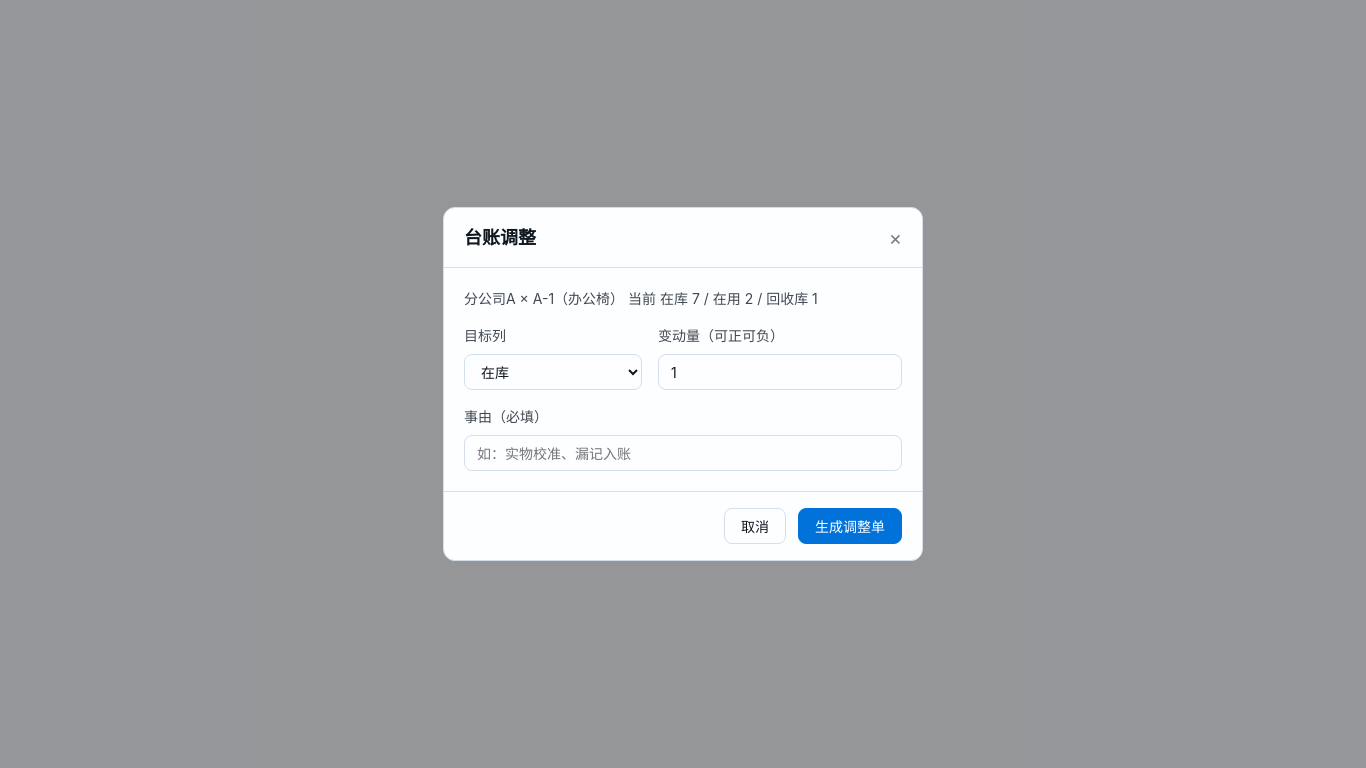
Test: AdjustDialog 行内开调整单（P3） › 后端不足报错原样展示，不触发 success
The image size is (1366, 768).
In the field labelled "事由（必填）": (683, 453) x1=464 y1=435 x2=902 y2=471, type "越界调整"
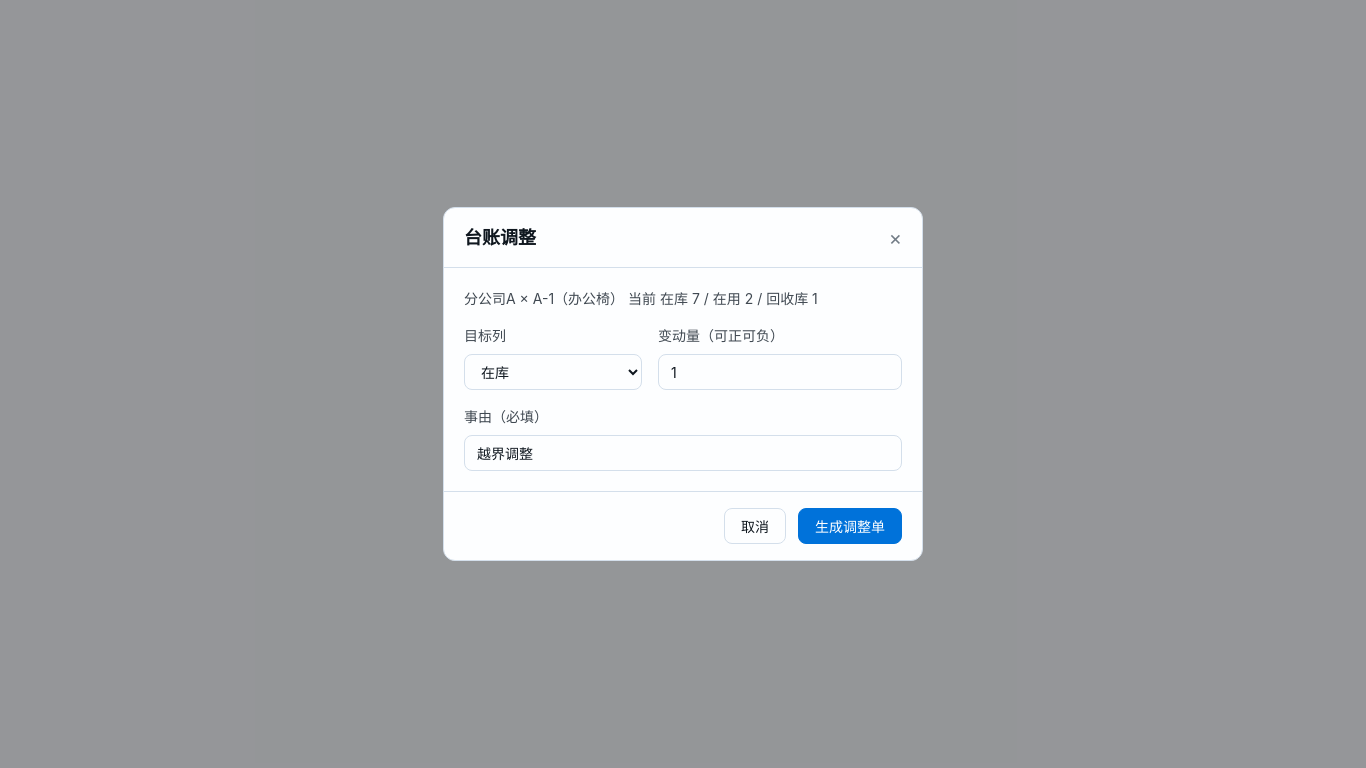
Replace the text in the number field labelled "变动量（可正可负）" with "-5": (780, 372) x1=658 y1=354 x2=902 y2=390
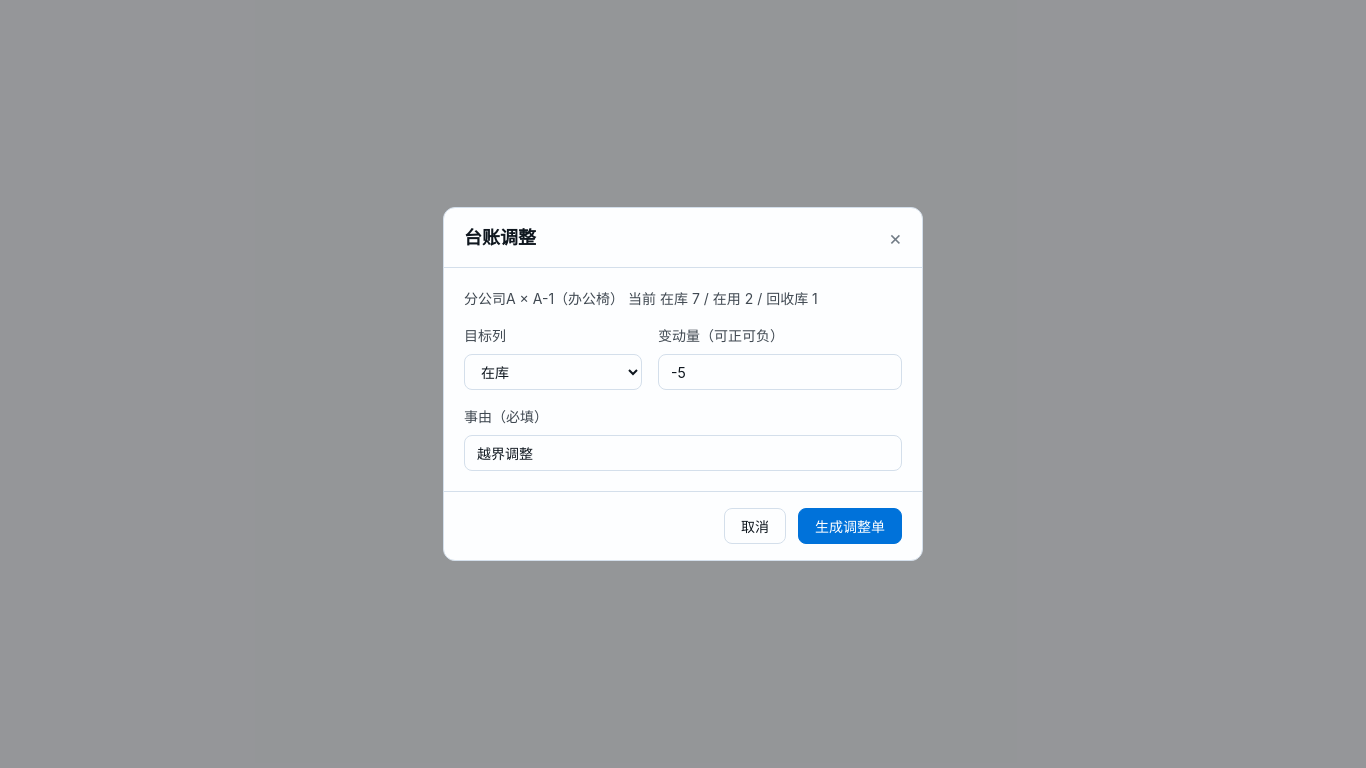
Click the button "生成调整单": (850, 526) x1=798 y1=508 x2=902 y2=544
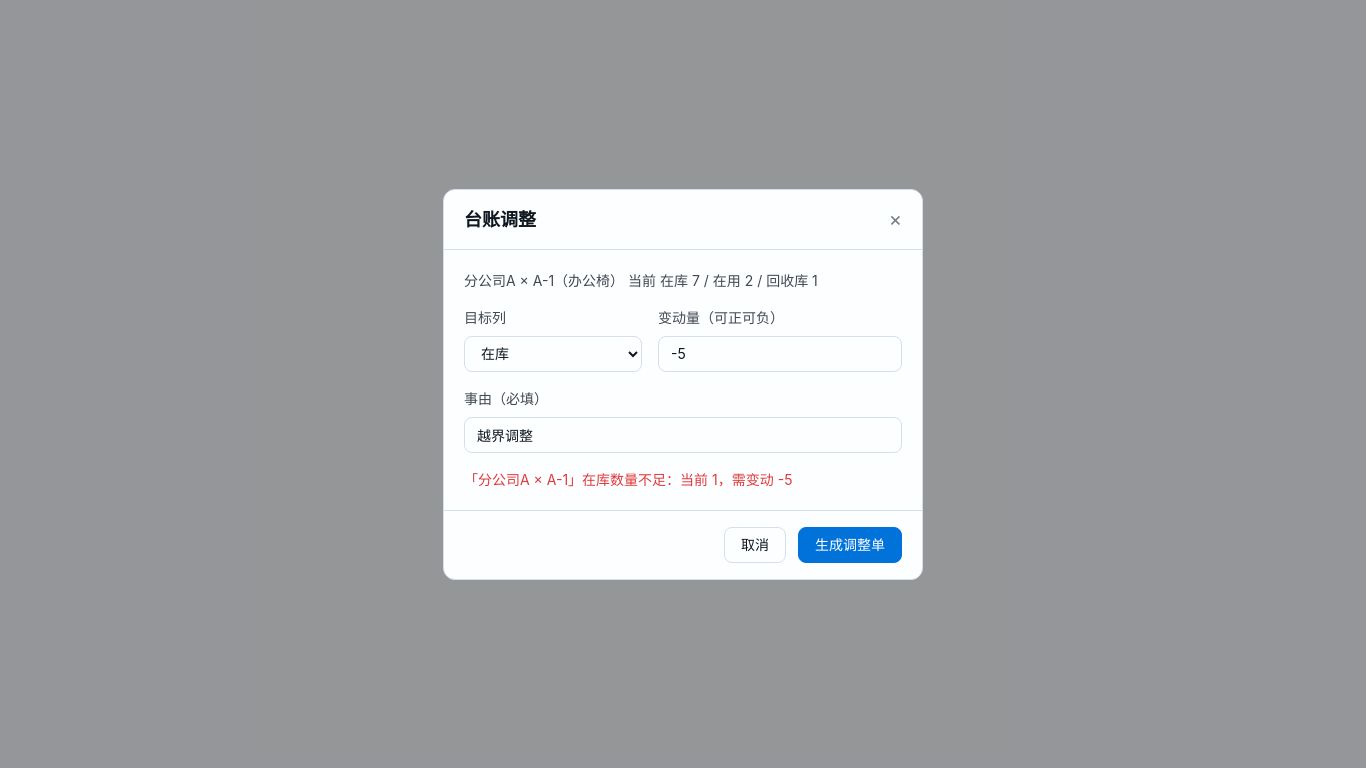
expect the text with class "error-text" shows "不足": met, box x1=464 y1=470 x2=792 y2=488
